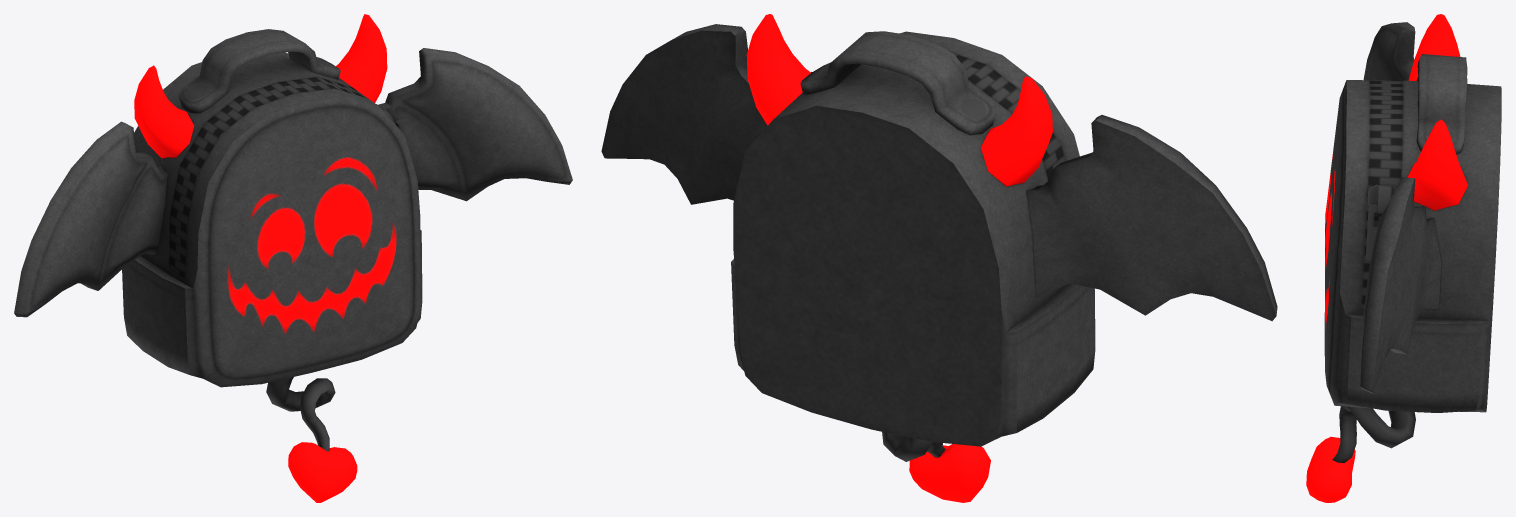
Rendered from IG_Backpack_PumpkinGhost.fbx.
3 views of the same model, side by side, from view 1: azimuth 30°, elevation 25°; view 2: azimuth 150°, elevation 25°; view 3: azimuth 270°, elevation 25° (orthographic). The views are drawn at different scales.
Parts seen in each view (by area): view 1: Pfb_Bag_Ghost; view 2: Pfb_Bag_Ghost; view 3: Pfb_Bag_Ghost.
Part boxes in pixels (x1,y1,x2,y2): Pfb_Bag_Ghost: [14, 14, 572, 502]; Pfb_Bag_Ghost: [601, 14, 1277, 502]; Pfb_Bag_Ghost: [1306, 14, 1501, 502].
Bounding box in the file's own units: 0.8436 × 0.6083 × 0.2501.
